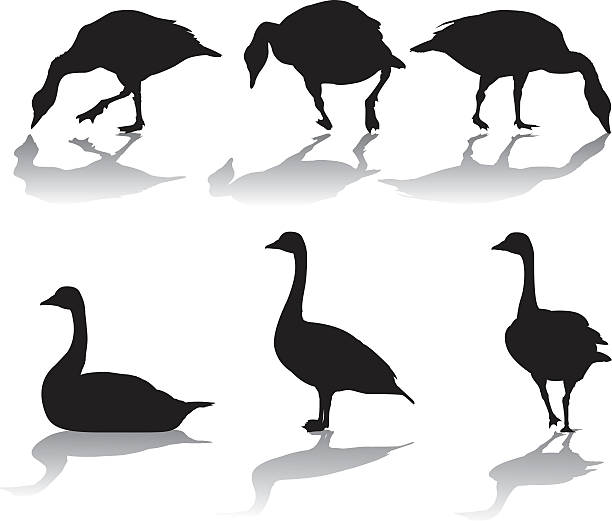goose: (261, 228, 417, 435), (33, 283, 219, 434), (406, 7, 612, 136), (25, 8, 225, 140), (489, 230, 612, 434), (242, 1, 407, 138)
